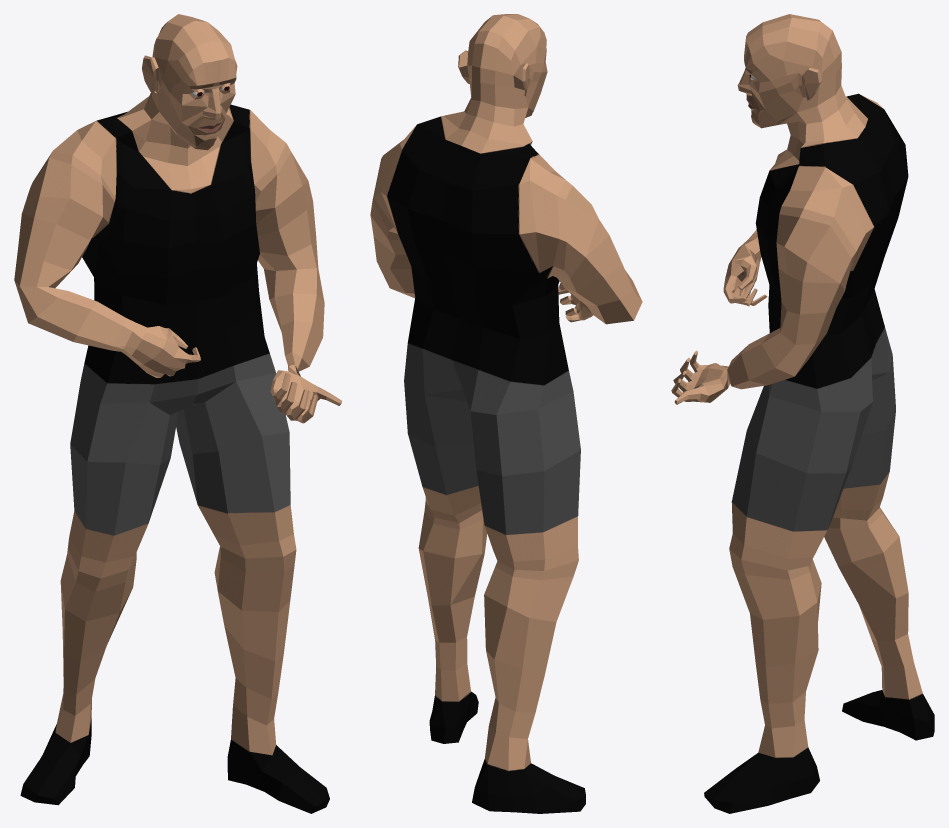
Rendered from PlayerIdle(100).obj.
The picture shows the model from 3 angles, left to right: view 1: azimuth 30°, elevation 25°; view 2: azimuth 150°, elevation 25°; view 3: azimuth 270°, elevation 25°; orthographic projection. The views are drawn at different scales.
Visible parts, largest first — view 1: Plane002; view 2: Plane002; view 3: Plane002.
Part boxes in pixels (box(x1,y1,x2,y2)): Plane002: box(14, 14, 341, 813); Plane002: box(370, 14, 642, 813); Plane002: box(671, 14, 934, 813).
Size of the model in its own units: 684 by 1804 by 576.
